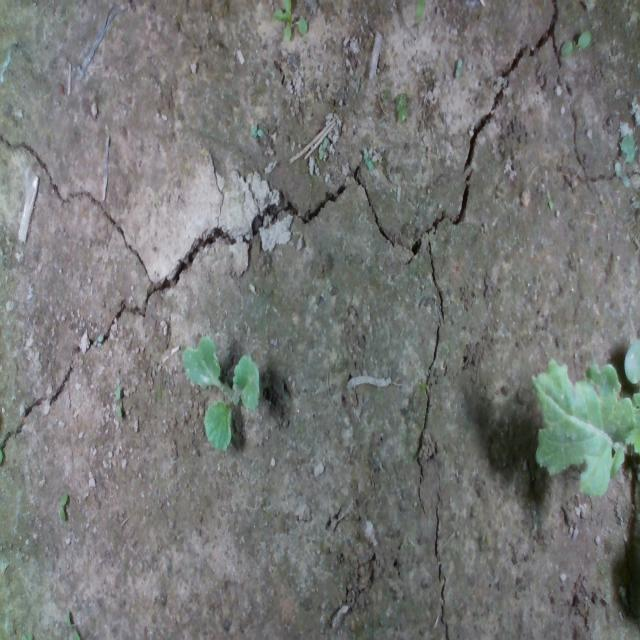weed: (360, 142, 389, 180), (53, 492, 73, 528), (110, 384, 126, 428), (249, 119, 263, 143)
